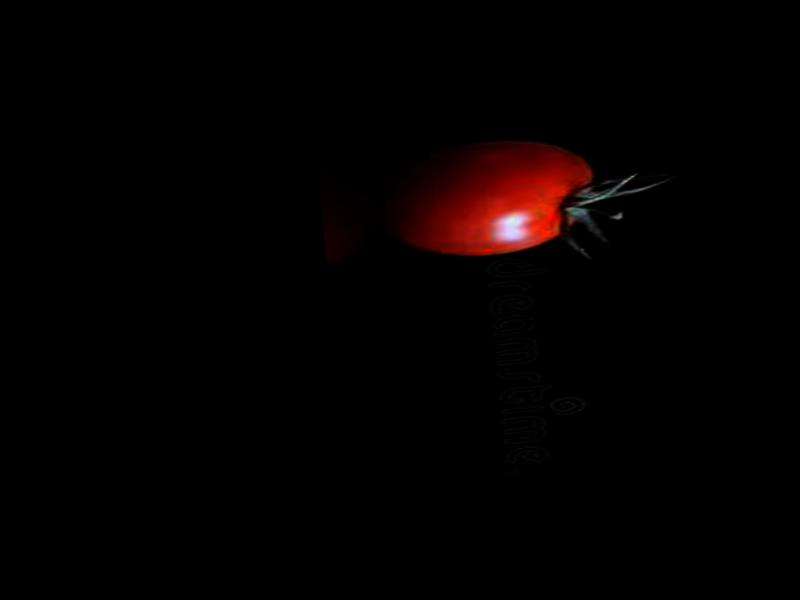Tomato: (378, 131, 602, 266)
